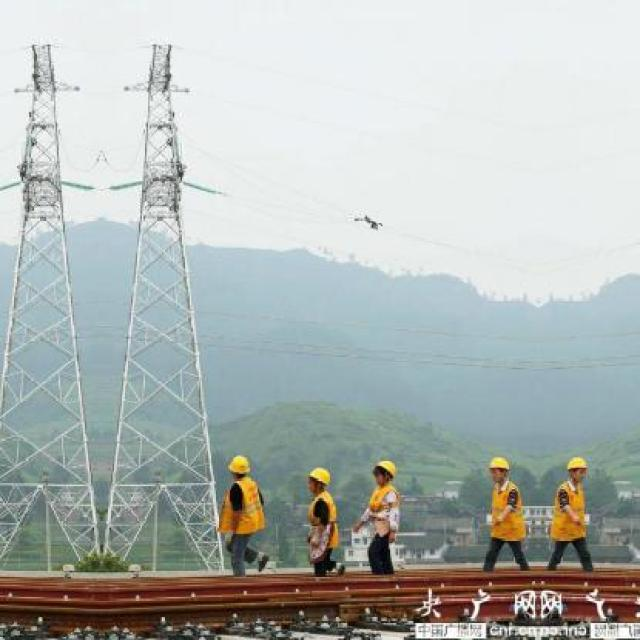helmet: (220, 452, 250, 486), (482, 456, 510, 486), (563, 456, 591, 486), (366, 459, 394, 486), (304, 467, 330, 496)
